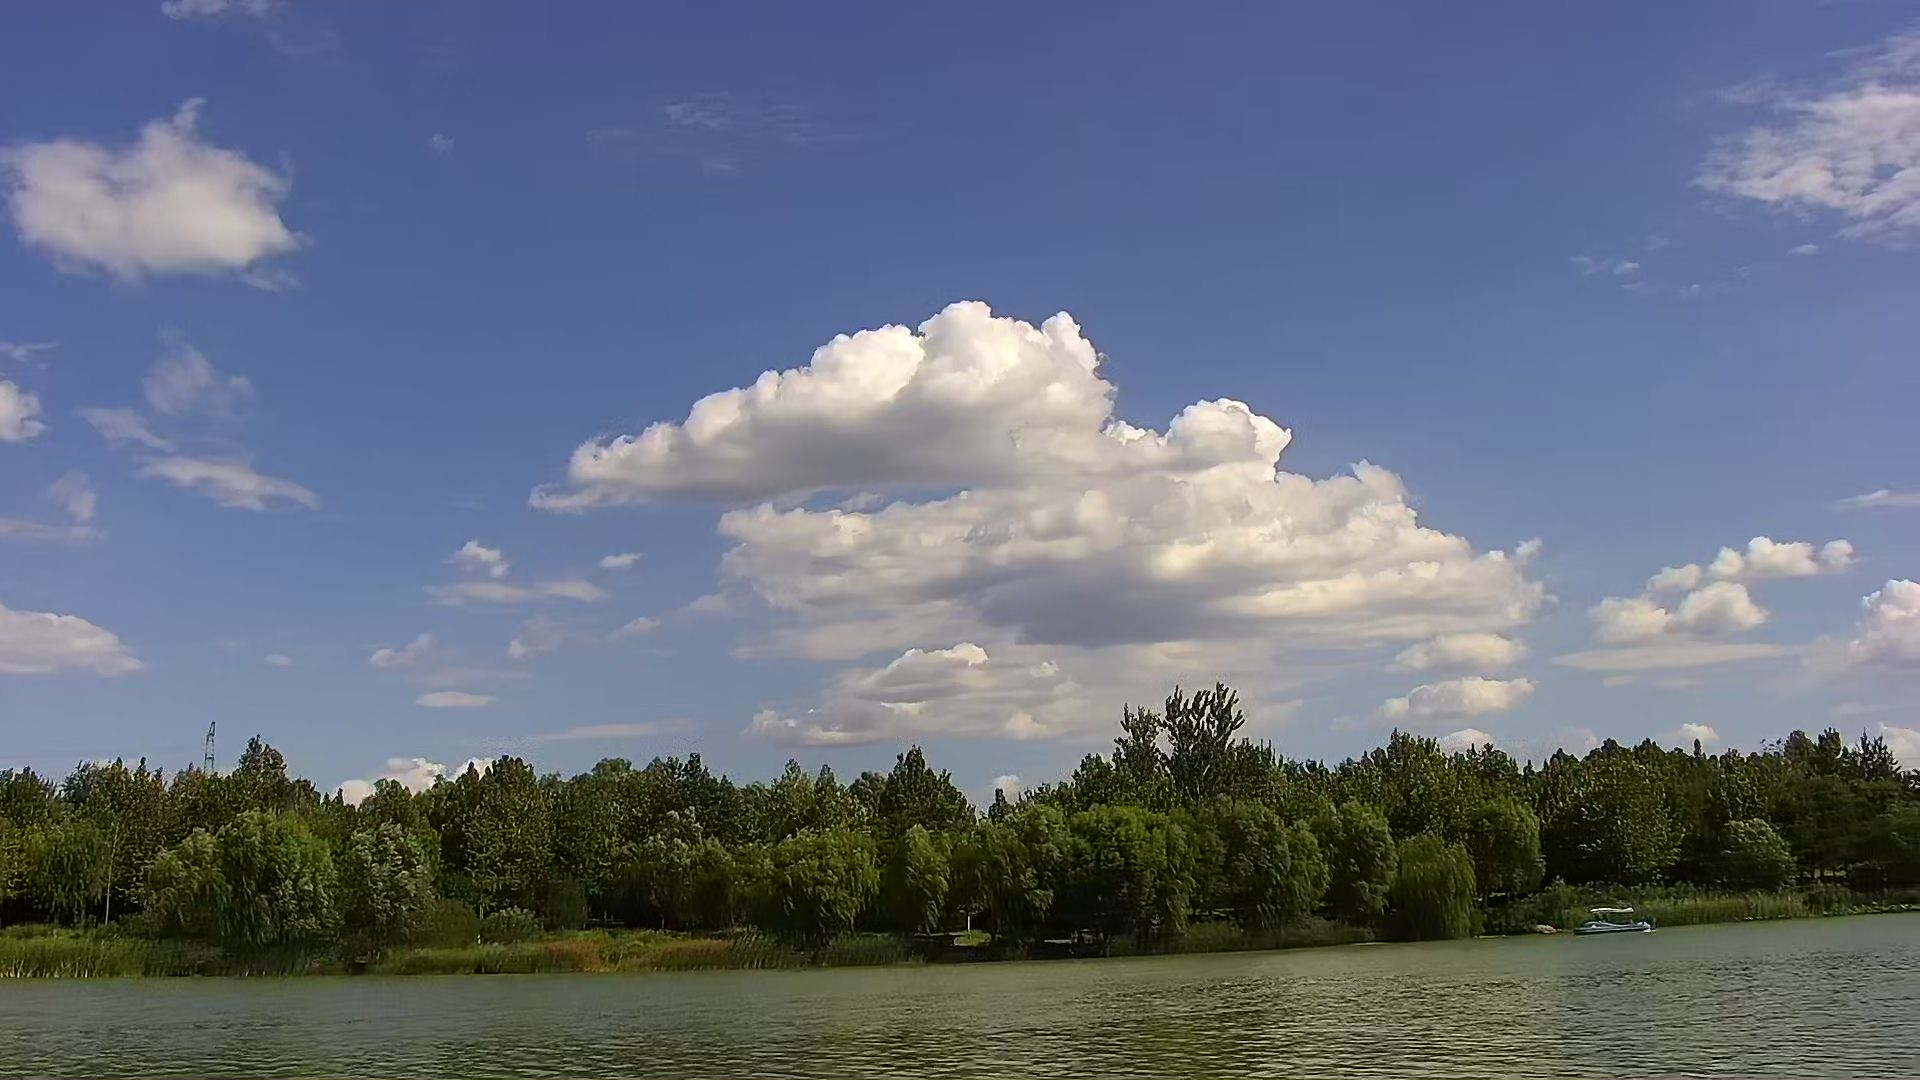boat: (1567, 905, 1664, 936)
